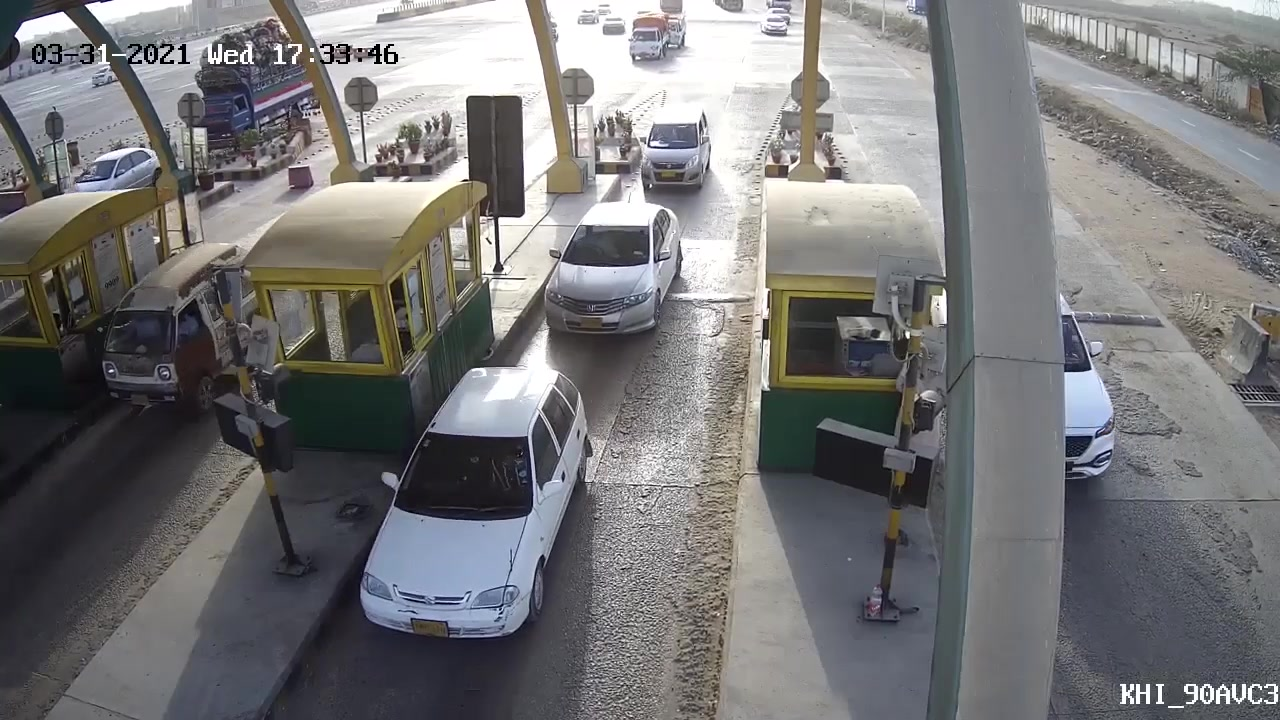F1: (339, 364, 616, 662), (523, 191, 689, 350)
